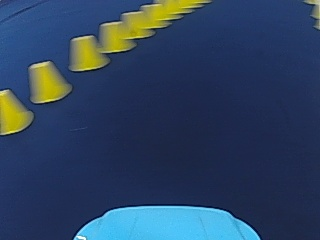cone: (28, 59, 70, 103), (0, 89, 32, 133), (68, 34, 106, 71), (97, 19, 132, 53), (119, 11, 150, 39)
